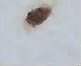Corrosion: (24, 6, 52, 28)
